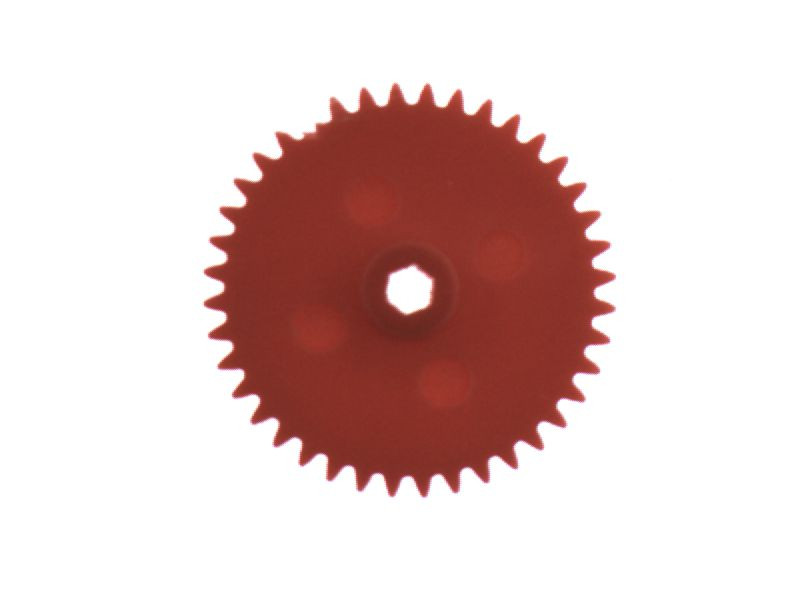defect_lack: (282, 105, 345, 149)
